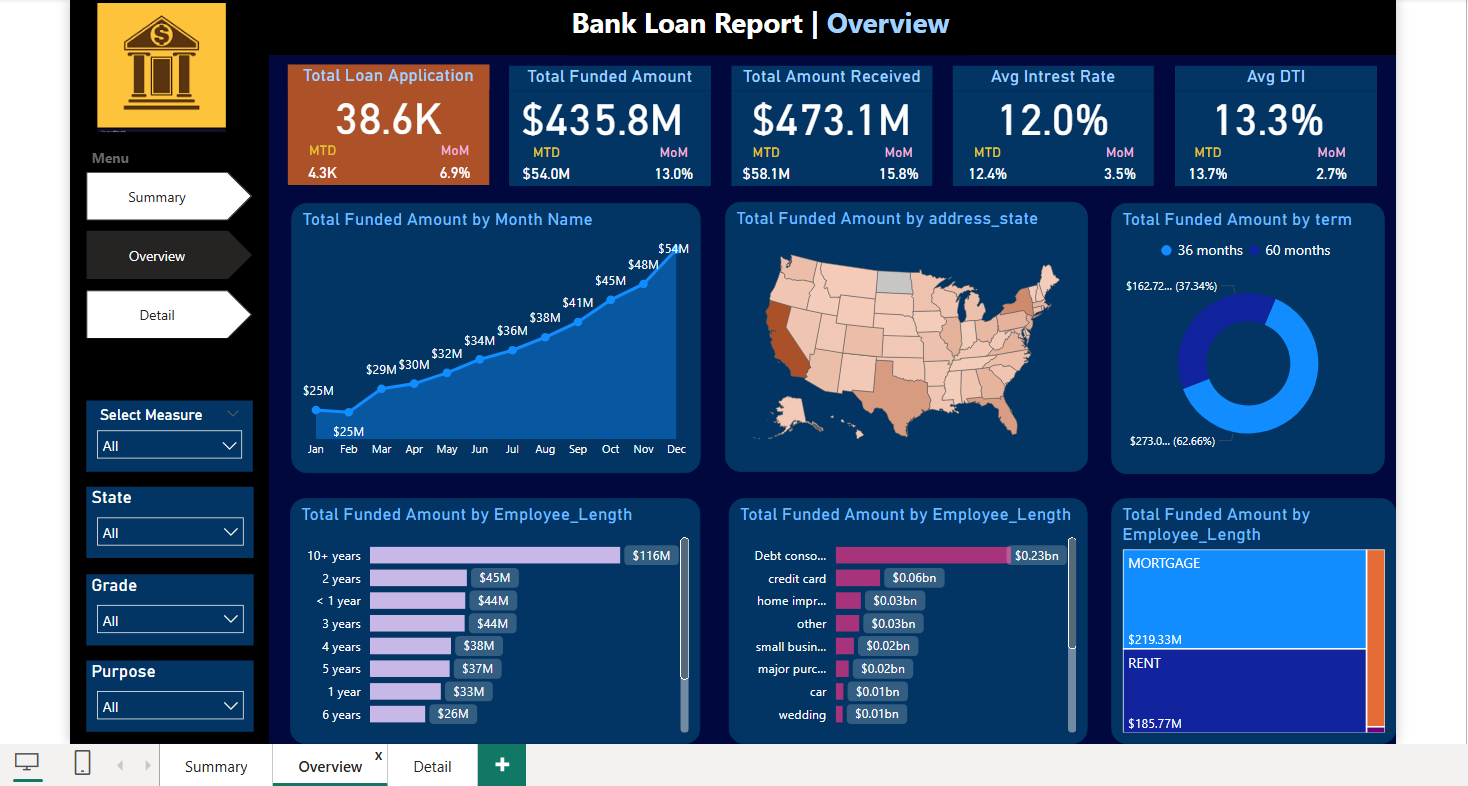

The page's visual inventory and layout, read from the dashboard file:
{"tool":"powerbi","page":{"name":"Overview","canvas":[1280,720],"ordinal":1},"visuals":[{"type":"shape","box":[0,0,1280.3,55],"z":0},{"type":"shape","box":[0,54.9,192.1,665.5],"z":1000},{"type":"textbox","box":[478.9,0,391.1,54.9],"z":2000},{"type":"group","id":"g1","title":"Group 1","box":[210,64,195.4,117],"z":3000,"group":"g6"},{"type":"shape","title":"Total Loan Application","box":[210.5,64,194.9,116.6],"z":3000,"group":"g1"},{"type":"shape","title":"Avg Intrest Rate","box":[852.5,65,194.2,116.6],"z":3000,"group":"g3"},{"type":"shape","title":"Total Funded Amount","box":[424,65.1,195,117],"z":3000,"group":"g4"},{"type":"shape","title":"Total Amount Received","box":[638.5,65.1,194.2,116.6],"z":3000,"group":"g2"},{"type":"shape","title":"Avg DTI","box":[1066.6,65.1,195,117],"z":3000,"group":"g5"},{"type":"group","id":"g2","title":"Group 1","box":[638,65.1,195.4,117],"z":4000,"group":"g6"},{"type":"card","fields":{"Values":["Table.Total Loan Application"]},"box":[229.3,91.7,156.8,48.3],"z":4000,"group":"g1"},{"type":"card","fields":{"Values":["Table.Average Intrest Rate"]},"box":[852.6,92.7,191.2,48.3],"z":4000,"group":"g3"},{"type":"card","fields":{"Values":["Table.Total Funded Amount"]},"box":[424,92.8,180.8,48.3],"z":4000,"group":"g4"},{"type":"card","fields":{"Values":["Table.Total Amount Received"]},"box":[638.6,92.8,191.2,48.3],"z":4000,"group":"g2"},{"type":"card","fields":{"Values":["Table.Average DTI"]},"box":[1066.6,92.9,179.4,48.3],"z":4000,"group":"g5"},{"type":"group","id":"g3","title":"Group 1","box":[852,65,195.4,117],"z":5000,"group":"g6"},{"type":"card","title":"MTD","fields":{"Values":["Table.MTD Loan Application"]},"box":[210,139.9,67.6,41],"z":5000,"group":"g1"},{"type":"card","title":"MTD","fields":{"Values":["Table.MTD Average Intrest Rate"]},"box":[852,140.9,67.3,41],"z":5000,"group":"g3"},{"type":"card","title":"MTD","fields":{"Values":["Table.MTD Total Amount Recieved"]},"box":[638,141,67.3,41],"z":5000,"group":"g2"},{"type":"card","title":"MTD","fields":{"Values":["Table.MTD TOtal Funded Amount"]},"box":[424,141.1,72.3,41],"z":5000,"group":"g4"},{"type":"card","title":"MTD","fields":{"Values":["Table.MTD Average DTI"]},"box":[1066,141.1,63.2,41],"z":5000,"group":"g5"},{"type":"group","id":"g4","title":"Group 2","box":[424,65.1,195,117],"z":6000,"group":"g6"},{"type":"card","title":"MoM","fields":{"Values":["Table.MOM Loan Application"]},"box":[337.9,139.9,67.6,41],"z":6000,"group":"g1"},{"type":"card","title":"MoM","fields":{"Values":["Table.MOM Average Intrest Rate"]},"box":[979.5,140.9,67.3,41],"z":6000,"group":"g3"},{"type":"card","title":"MoM","fields":{"Values":["Table.MOM Amount Recived"]},"box":[765.5,141,67.3,41],"z":6000,"group":"g2"},{"type":"card","title":"MoM","fields":{"Values":["Table.MOM Funded Amount"]},"box":[546.7,141.1,72.3,41],"z":6000,"group":"g4"},{"type":"card","title":"MoM","fields":{"Values":["Table.MOM Average DTI"]},"box":[1185.6,141.1,63.2,41],"z":6000,"group":"g5"},{"type":"group","id":"g5","title":"Group 1","box":[1066,65.1,195.6,117],"z":7000,"group":"g6"},{"type":"areaChart","fields":{"Y":["Table.Total Funded Amount"],"Category":["Date Table.Month Name"]},"box":[214,197.9,395,260.6],"z":8000},{"type":"shapeMap","fields":{"Value":["Table.Total Funded Amount"],"Category":["Financial_loan.address_state"]},"box":[632,197,350,260.6],"z":9000},{"type":"donutChart","fields":{"Category":["Financial_loan.term"],"Y":["Table.Total Funded Amount"]},"box":[1005,197.9,264,261.8],"z":10000},{"type":"barChart","title":"Total Funded Amount by Employee_Length","fields":{"Y":["Table.Total Funded Amount"],"Category":["Financial_loan.emp_length"]},"box":[212.3,482.6,395.7,237.7],"z":11000},{"type":"barChart","title":"Total Funded Amount by Employee_Length","fields":{"Y":["Table.Total Funded Amount"],"Category":["Financial_loan.purpose"]},"box":[635.8,482.6,346.2,237.7],"z":12000},{"type":"treemap","title":"Total Funded Amount by Employee_Length","fields":{"Values":["Table.Total Funded Amount"],"Group":["Financial_loan.home_ownership"]},"box":[1005,482.6,275.1,237.7],"z":13000},{"type":"slicer","title":"State","fields":{"Values":["Financial_loan.address_state"]},"box":[15.1,472,161.9,68.6],"z":13001},{"type":"slicer","title":"Grade","fields":{"Values":["Financial_loan.grade"]},"box":[15.1,555.7,161.9,68.6],"z":13002},{"type":"slicer","title":"Purpose","fields":{"Values":["Financial_loan.purpose"]},"box":[15.1,639.5,161.9,68.6],"z":13003},{"type":"group","id":"g6","title":"Group 5","box":[210,64,1051.6,118.2],"z":13004},{"type":"slicer","fields":{"Values":["Select Measure.Select Measure"]},"box":[15.1,388.3,160.5,68.6],"z":13005},{"type":"pageNavigator","box":[15.1,167.4,160.5,161.9],"z":13006,"group":"g7"},{"type":"textbox","box":[15.1,140,75.5,27.4],"z":13007,"group":"g7"},{"type":"image","box":[0,0,177,134.5],"z":13008,"group":"g7"},{"type":"group","id":"g7","title":"Group 3","box":[0,0,177,329.3],"z":13009}]}

Visuals, with their boxes on the page's 1280x720 design canvas (x1, y1, x2, y2). These are canvas units, not pixel positions in the 1468x786 screenshot, which may show the page scaled, cropped or inside an application window:
shape: 0/0/1280/55
shape: 0/55/192/720
textbox: 479/0/870/55
"Group 1" group: 210/64/405/181
"Total Loan Application" shape: 210/64/405/181
"Avg Intrest Rate" shape: 852/65/1047/182
"Total Funded Amount" shape: 424/65/619/182
"Total Amount Received" shape: 638/65/833/182
"Avg DTI" shape: 1067/65/1262/182
"Group 1" group: 638/65/833/182
card - Table.Total Loan Application: 229/92/386/140
card - Table.Average Intrest Rate: 853/93/1044/141
card - Table.Total Funded Amount: 424/93/605/141
card - Table.Total Amount Received: 639/93/830/141
card - Table.Average DTI: 1067/93/1246/141
"Group 1" group: 852/65/1047/182
"MTD" card: 210/140/278/181
"MTD" card: 852/141/919/182
"MTD" card: 638/141/705/182
"MTD" card: 424/141/496/182
"MTD" card: 1066/141/1129/182
"Group 2" group: 424/65/619/182
"MoM" card: 338/140/406/181
"MoM" card: 980/141/1047/182
"MoM" card: 766/141/833/182
"MoM" card: 547/141/619/182
"MoM" card: 1186/141/1249/182
"Group 1" group: 1066/65/1262/182
areaChart - Table.Total Funded Amount x Date Table.Month Name: 214/198/609/458
shapeMap - Table.Total Funded Amount x Financial_loan.address_state: 632/197/982/458
donutChart - Financial_loan.term x Table.Total Funded Amount: 1005/198/1269/460
"Total Funded Amount by Employee_Length" barChart: 212/483/608/720
"Total Funded Amount by Employee_Length" barChart: 636/483/982/720
"Total Funded Amount by Employee_Length" treemap: 1005/483/1280/720
"State" slicer: 15/472/177/541
"Grade" slicer: 15/556/177/624
"Purpose" slicer: 15/640/177/708
"Group 5" group: 210/64/1262/182
slicer - Select Measure.Select Measure: 15/388/176/457
pageNavigator: 15/167/176/329
textbox: 15/140/91/167
image: 0/0/177/134
"Group 3" group: 0/0/177/329
